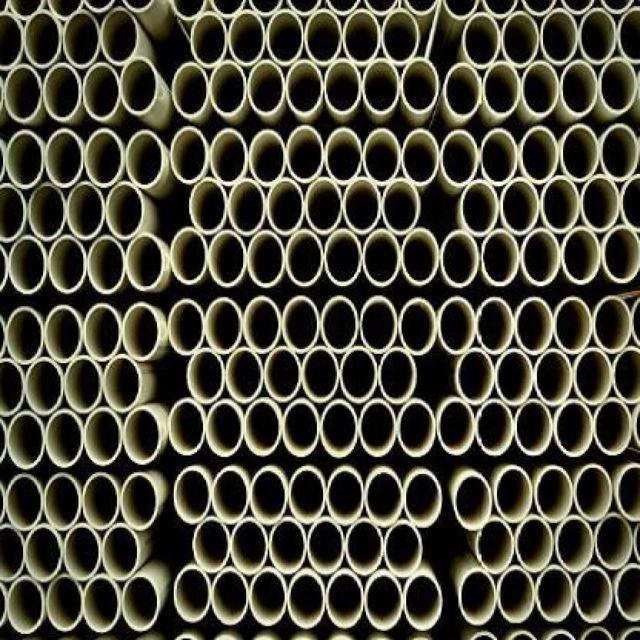pipe: (45, 128, 85, 189), (600, 224, 639, 286), (49, 234, 88, 295), (45, 408, 84, 469), (119, 55, 158, 116), (82, 61, 121, 122), (85, 128, 125, 187), (580, 174, 620, 233), (105, 182, 145, 241), (514, 296, 554, 355), (6, 411, 46, 470), (101, 523, 141, 582), (125, 130, 164, 190), (5, 130, 44, 190), (29, 182, 68, 242), (122, 302, 161, 362), (553, 400, 593, 458), (401, 128, 440, 187), (501, 177, 540, 236), (66, 182, 105, 241), (522, 227, 561, 286), (401, 228, 440, 287), (87, 235, 126, 294), (8, 236, 47, 295), (101, 6, 140, 65), (62, 10, 101, 69), (535, 465, 574, 524), (120, 472, 159, 531), (574, 565, 613, 624), (43, 63, 82, 122), (560, 123, 599, 182), (520, 125, 559, 184), (480, 229, 520, 286), (494, 349, 534, 406), (403, 574, 443, 631), (44, 305, 83, 363), (5, 308, 44, 366), (574, 347, 613, 405), (103, 354, 142, 412), (64, 355, 103, 413), (25, 357, 64, 415), (83, 408, 122, 466), (5, 473, 44, 531), (83, 573, 120, 634), (363, 128, 401, 187), (440, 129, 478, 188), (363, 228, 401, 287), (437, 296, 475, 355), (327, 467, 365, 526), (476, 516, 514, 575), (210, 129, 249, 186), (541, 176, 580, 233), (561, 227, 600, 284), (441, 231, 480, 288), (592, 296, 631, 353), (554, 296, 593, 353), (579, 8, 618, 65), (540, 9, 579, 66), (381, 9, 420, 66), (535, 349, 574, 406), (593, 398, 632, 455), (514, 399, 553, 456), (574, 464, 613, 521), (249, 468, 288, 525), (595, 512, 634, 569), (515, 515, 554, 572), (555, 515, 594, 572), (269, 518, 308, 575), (535, 565, 574, 622), (249, 570, 288, 627), (122, 575, 161, 632), (599, 57, 638, 114), (559, 60, 598, 117), (600, 124, 639, 181), (399, 298, 437, 356), (397, 400, 435, 458), (320, 400, 358, 458), (400, 58, 438, 116), (285, 60, 324, 116), (171, 227, 208, 286), (247, 230, 284, 289), (126, 232, 163, 291), (243, 295, 280, 354), (282, 295, 319, 354), (84, 303, 121, 362), (25, 10, 62, 69), (244, 398, 281, 457), (283, 398, 320, 457), (360, 398, 397, 457), (44, 472, 81, 531), (230, 517, 267, 576), (64, 523, 101, 582), (25, 524, 62, 583), (497, 565, 534, 624), (326, 570, 363, 629), (288, 571, 325, 630), (7, 575, 44, 634), (325, 58, 362, 117), (5, 65, 42, 124), (287, 125, 324, 184), (170, 125, 207, 184), (326, 127, 363, 186), (480, 129, 518, 186), (343, 177, 381, 234), (460, 179, 498, 236), (324, 229, 362, 286), (360, 296, 398, 353), (476, 298, 514, 355), (305, 9, 343, 66), (343, 9, 381, 66), (340, 346, 378, 403), (379, 347, 417, 404), (456, 348, 494, 405), (437, 399, 475, 456), (476, 399, 514, 456), (365, 470, 403, 527), (405, 471, 443, 528), (454, 473, 492, 530), (345, 519, 383, 576), (383, 521, 421, 578), (459, 569, 497, 626), (365, 575, 403, 632), (123, 407, 160, 465), (501, 12, 540, 67), (187, 349, 226, 404), (382, 179, 420, 235), (463, 12, 501, 68), (444, 63, 482, 119), (190, 177, 227, 234), (306, 178, 343, 235), (267, 178, 304, 235), (229, 179, 266, 236), (286, 229, 323, 286), (209, 230, 246, 287), (322, 296, 359, 353), (205, 298, 242, 355), (303, 347, 340, 404), (266, 10, 303, 67), (229, 10, 266, 67), (190, 11, 227, 68), (168, 399, 205, 456), (496, 466, 533, 523), (289, 467, 326, 524), (173, 467, 210, 524), (212, 468, 249, 525), (83, 473, 120, 530), (193, 516, 230, 573), (308, 518, 345, 575), (174, 566, 211, 623), (211, 568, 248, 625), (46, 574, 83, 631), (363, 59, 400, 116), (521, 60, 558, 117), (210, 60, 247, 117), (483, 61, 520, 118), (250, 130, 287, 186), (248, 60, 285, 116), (264, 347, 300, 404), (167, 300, 204, 355), (226, 348, 263, 403), (172, 62, 208, 118), (207, 401, 242, 458), (612, 347, 640, 405), (0, 184, 26, 243), (0, 10, 24, 71), (616, 563, 639, 624), (617, 463, 640, 523), (0, 358, 24, 415), (0, 524, 24, 581), (617, 4, 639, 65), (619, 174, 639, 233), (169, 0, 208, 21), (441, 0, 481, 20), (6, 0, 45, 19), (483, 0, 520, 19), (46, 0, 83, 19), (211, 0, 246, 19), (249, 0, 285, 17), (597, 0, 637, 15), (323, 0, 362, 15), (361, 0, 400, 15), (403, 0, 440, 15), (560, 0, 597, 15), (285, 1, 324, 15), (522, 0, 557, 15)
